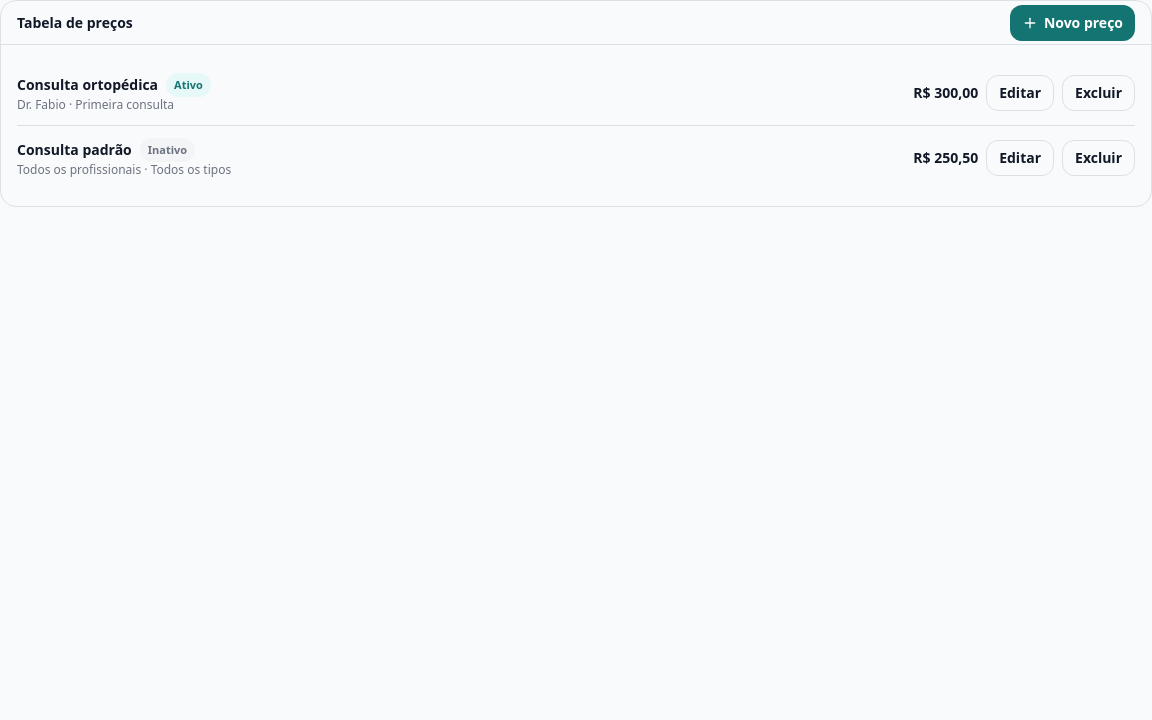
ServicePricesSection › cria um preço com o valor em string decimal
Expected: the text "Consulta ortopédica" is shown, [17,75,158,95]
Click the button "Novo preço": (1072, 22) [1010,4,1135,40]
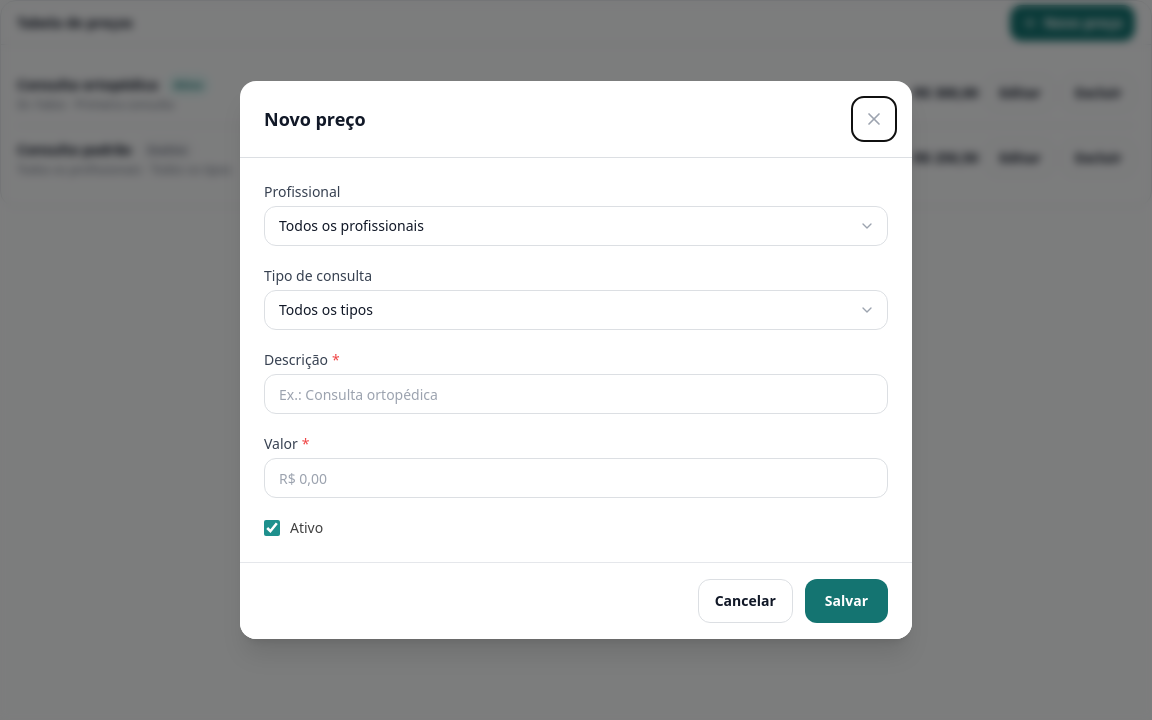
Select "Dra. Ana" in the dropdown labelled "Profissional": (576, 226) [264,206,888,246]
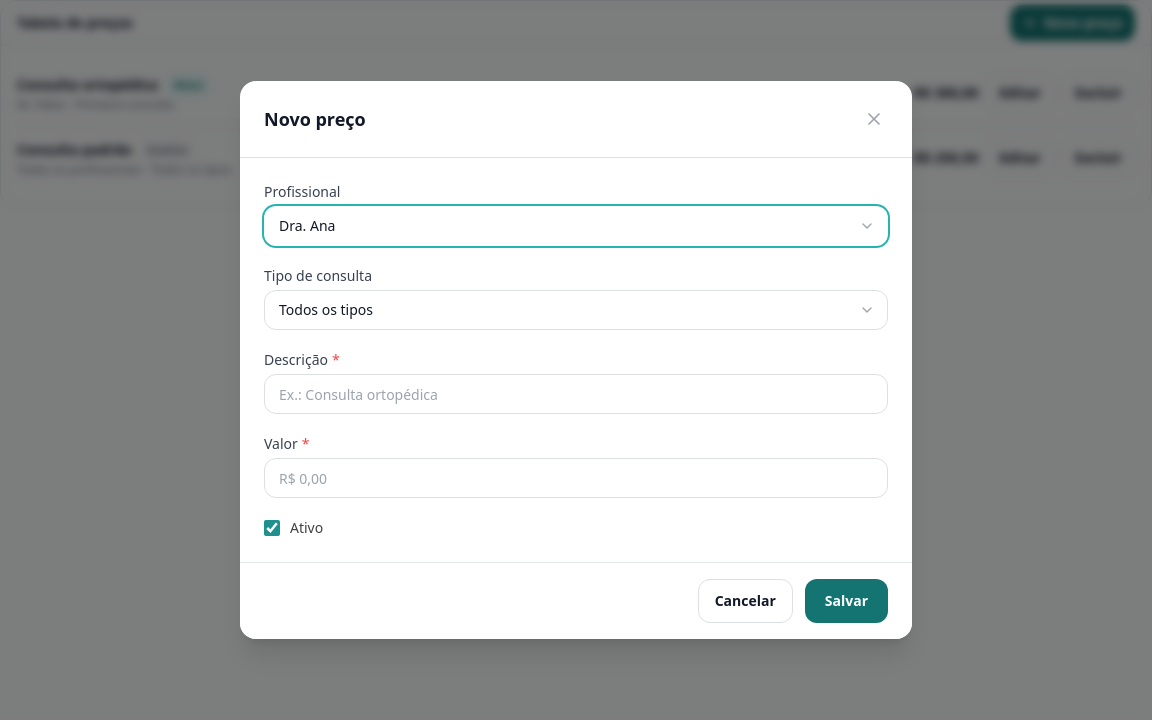
Select "Retorno" in the dropdown labelled "Tipo de consulta": (576, 310) [264,290,888,330]
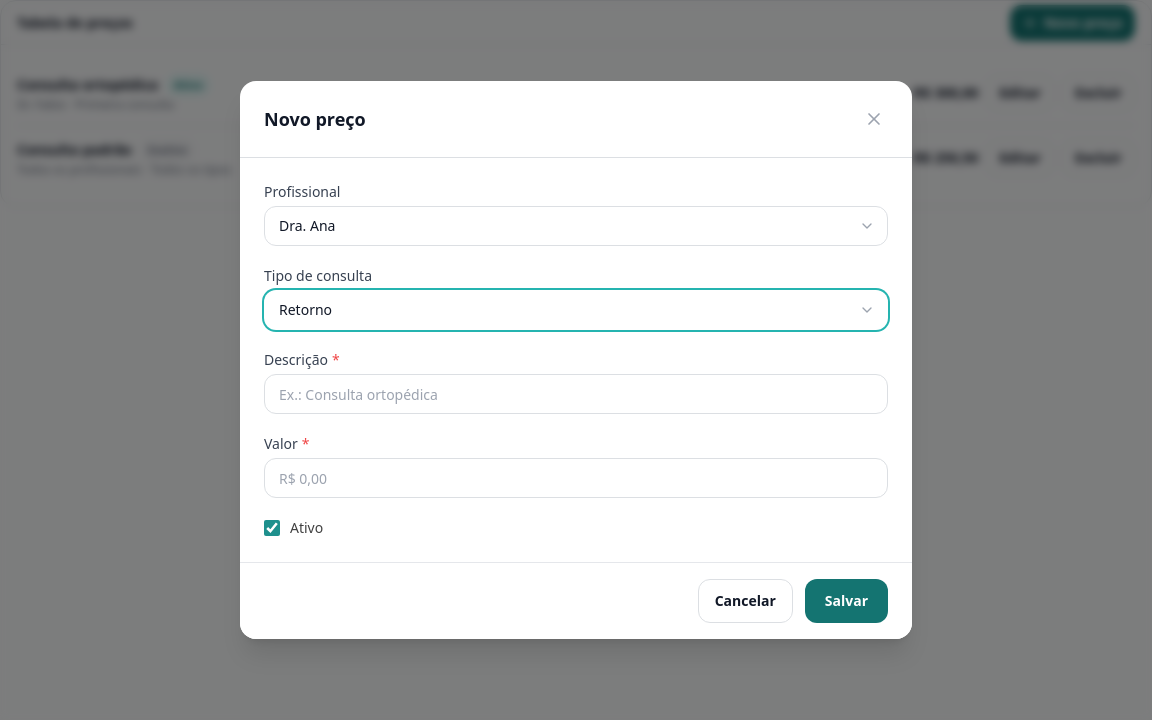
In the field labelled "Descrição*": (576, 394) [264,374,888,414], type "Retorno"
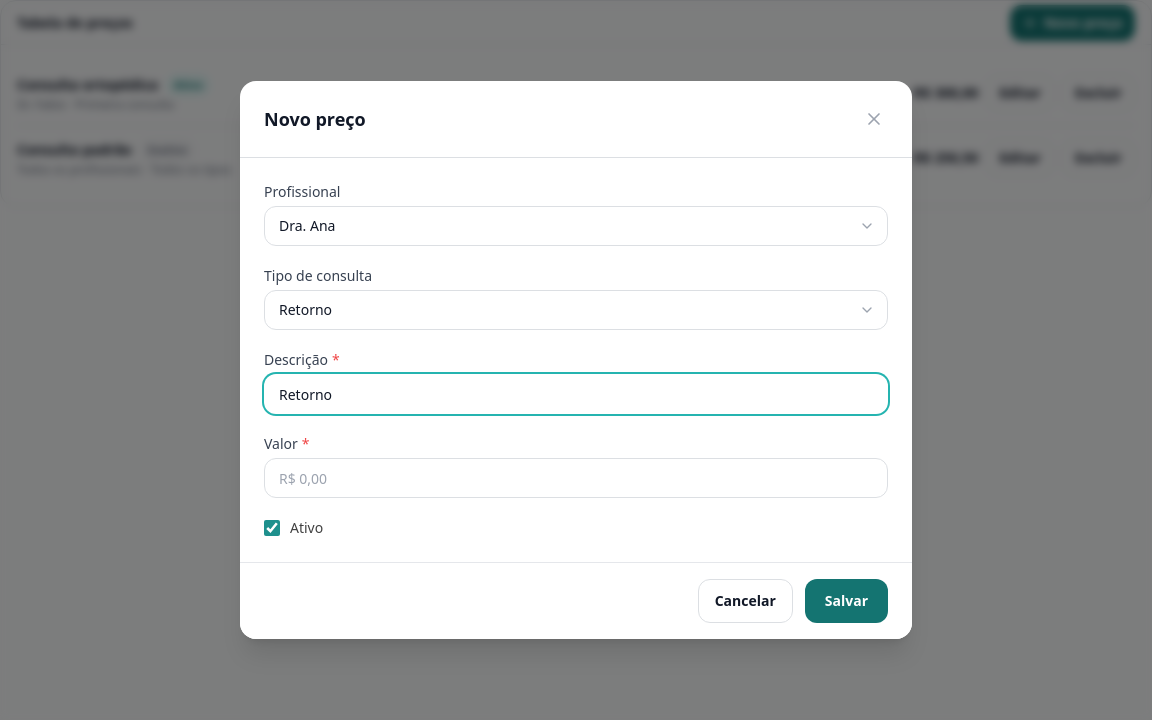
In the field labelled "Valor*": (576, 478) [264,458,888,498], type "15000"
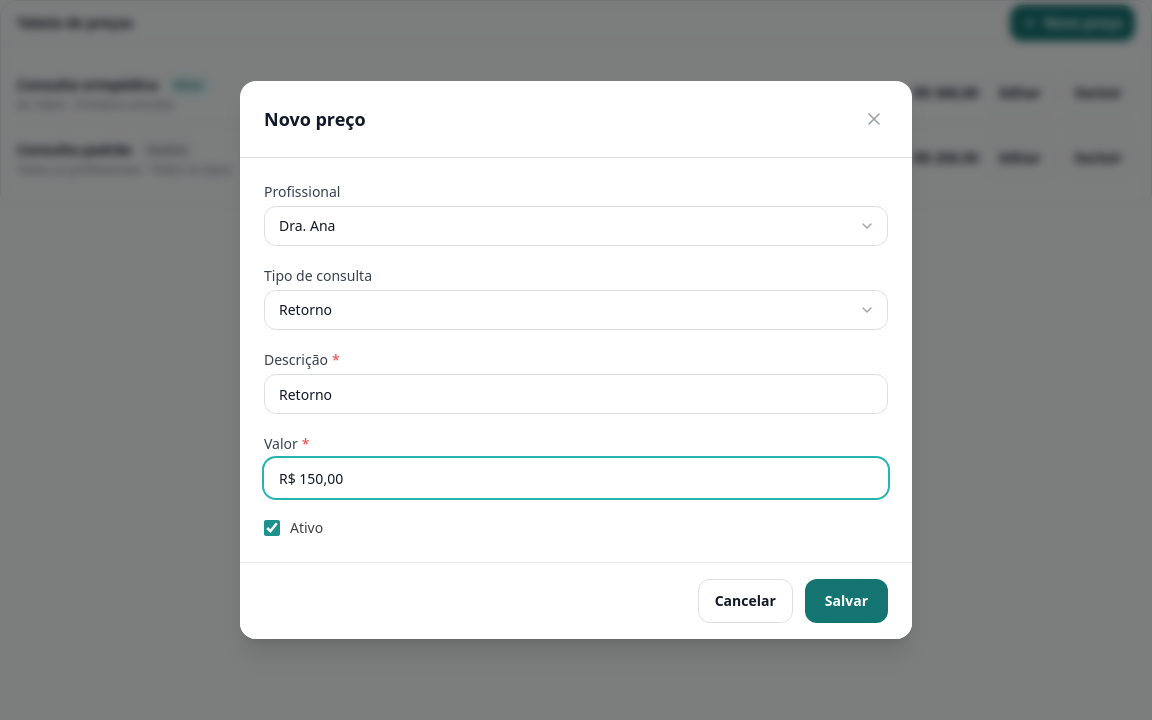
Click the button "Salvar": (846, 601) [805,579,888,623]
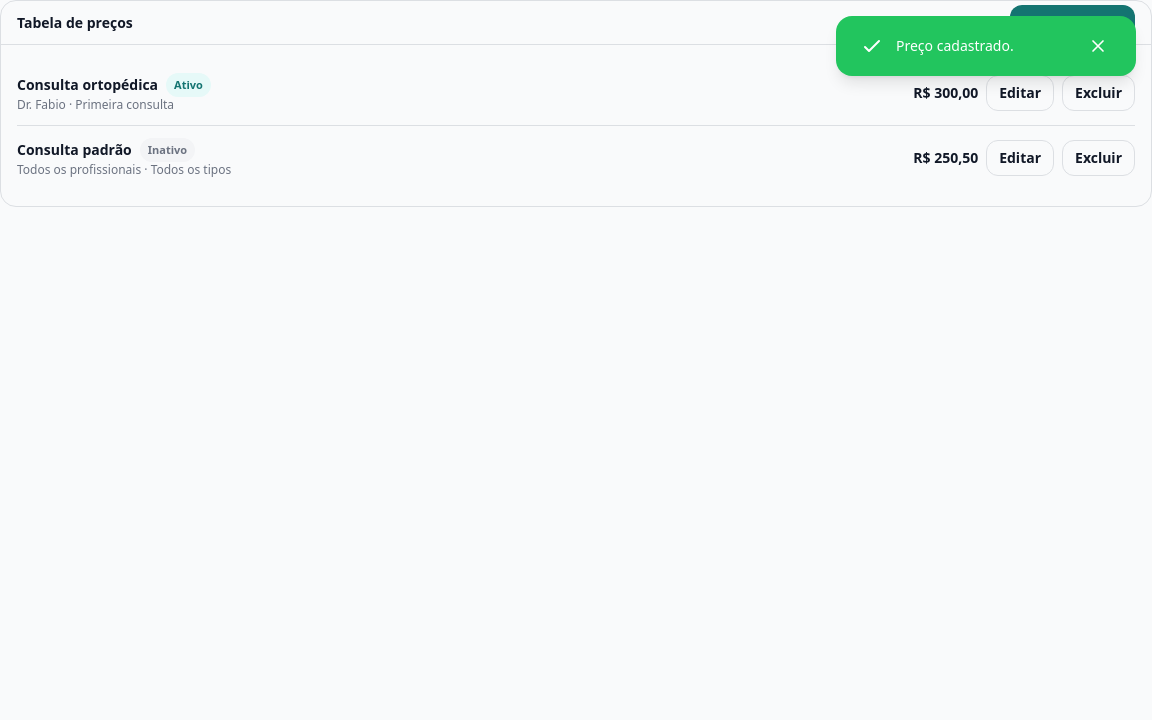
Now the text "Preço cadastrado." is shown, box [896,36,1014,55]
